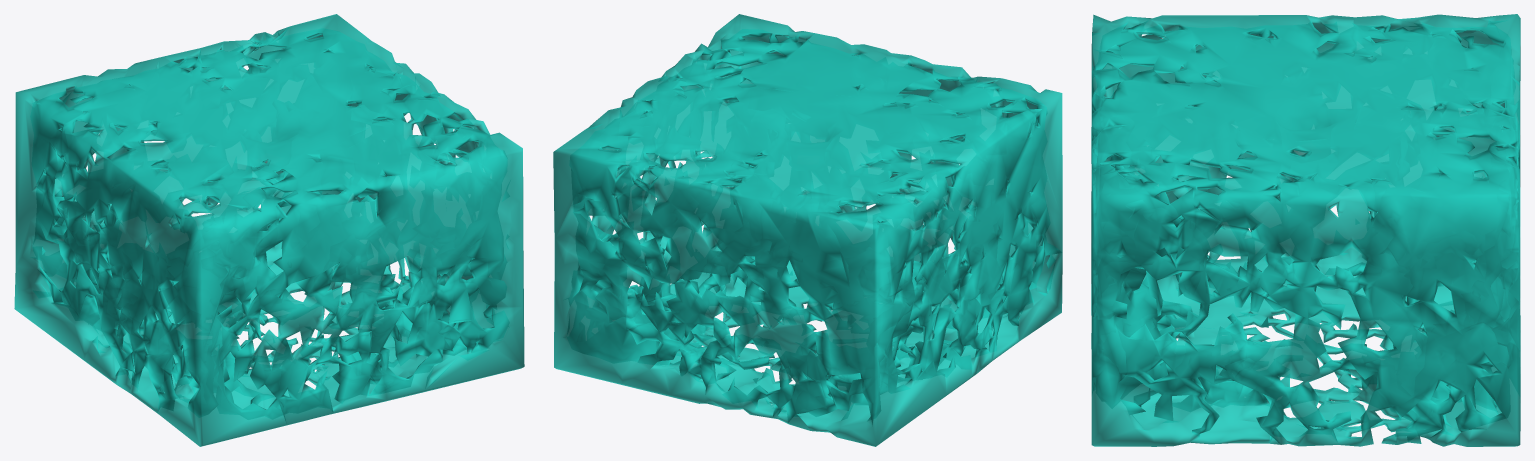
3 views of the same model, side by side, from view 1: azimuth 30°, elevation 25°; view 2: azimuth 150°, elevation 25°; view 3: azimuth 270°, elevation 25° (orthographic). The views are drawn at different scales.
Visible parts, largest first — view 1: Liquid_Domain; view 2: Liquid_Domain; view 3: Liquid_Domain.
Boxes of the visible parts, bbox=[...] form: Liquid_Domain: bbox=[14, 14, 524, 446]; Liquid_Domain: bbox=[553, 14, 1062, 446]; Liquid_Domain: bbox=[1091, 14, 1520, 446].
Size of the model in its own units: 391 by 254 by 391.
